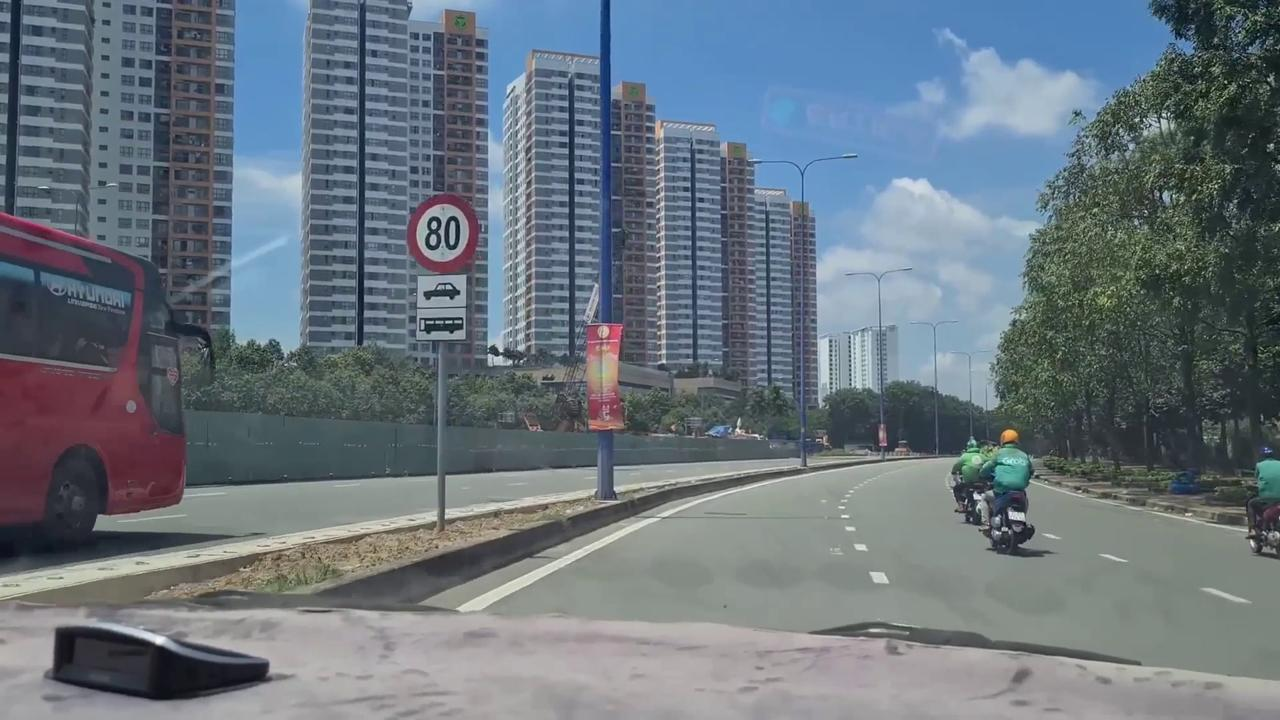Biển phụ: (413, 272, 470, 342)
Giới hạn tốc độ 80Km/h: (406, 192, 482, 273)
